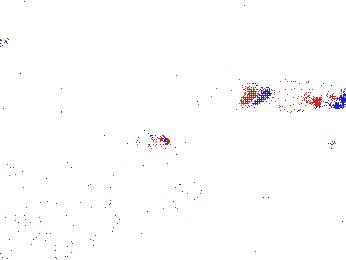X-ray fish: (121, 165, 216, 217)
red belly glassfish: (138, 131, 170, 151), (327, 135, 346, 151)
redtail glassfish: (240, 78, 346, 114)
